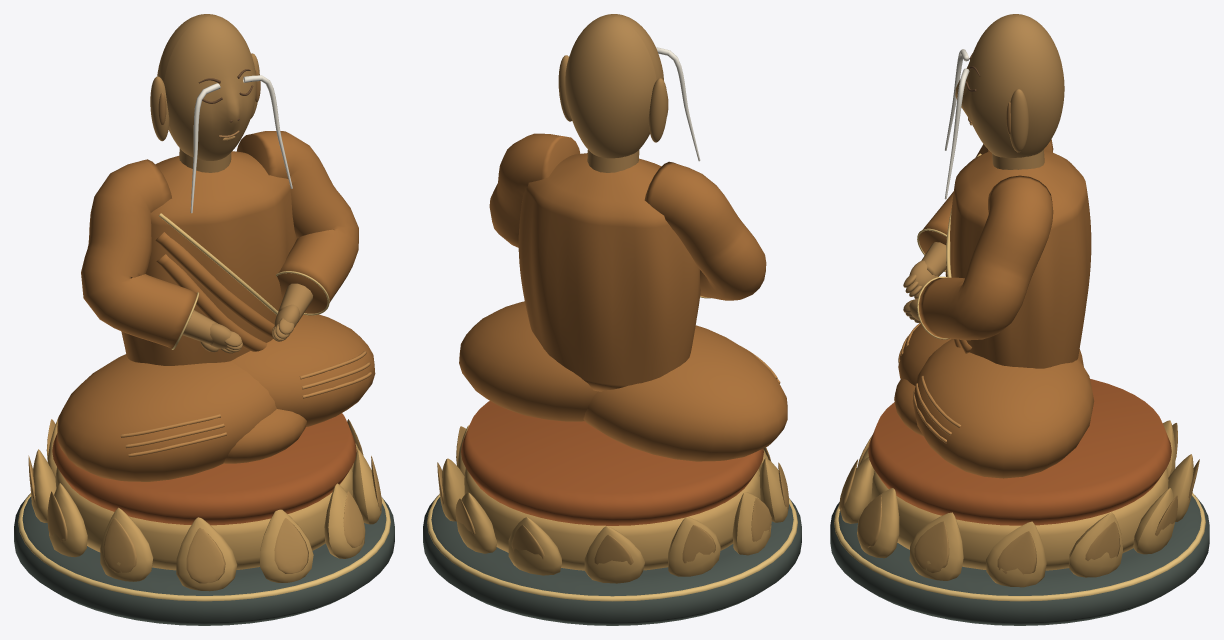
Rendered from arhat_05.glb.
The picture shows the model from 3 angles, left to right: view 1: azimuth 30°, elevation 25°; view 2: azimuth 150°, elevation 25°; view 3: azimuth 270°, elevation 25°; orthographic projection.
Visible parts, largest first — view 1: arhat_05_ArhatDrapery, arhat_05_AntiqueGold, arhat_05_CarvedPlinth, arhat_05_SaffronDrapery, arhat_05_WarmBronze, arhat_05_GoldPetalRelief, arhat_05_RaisedGoldBorders, arhat_05_DraperyFoldHighlights, arhat_05_WarmPorcelain; view 2: arhat_05_ArhatDrapery, arhat_05_SaffronDrapery, arhat_05_CarvedPlinth, arhat_05_AntiqueGold, arhat_05_WarmBronze, arhat_05_GoldPetalRelief, arhat_05_RaisedGoldBorders, arhat_05_WarmPorcelain; view 3: arhat_05_ArhatDrapery, arhat_05_SaffronDrapery, arhat_05_AntiqueGold, arhat_05_CarvedPlinth, arhat_05_WarmBronze, arhat_05_GoldPetalRelief, arhat_05_RaisedGoldBorders, arhat_05_WarmPorcelain, arhat_05_DraperyFoldHighlights.
Boxes of the visible parts, box(x1,y1,x2,y2) form: arhat_05_ArhatDrapery: box(57, 131, 375, 481); arhat_05_AntiqueGold: box(30, 418, 381, 591); arhat_05_CarvedPlinth: box(14, 494, 394, 625); arhat_05_SaffronDrapery: box(52, 413, 356, 525); arhat_05_WarmBronze: box(150, 14, 312, 353); arhat_05_GoldPetalRelief: box(28, 419, 381, 583); arhat_05_RaisedGoldBorders: box(18, 213, 390, 601); arhat_05_DraperyFoldHighlights: box(120, 351, 371, 457); arhat_05_WarmPorcelain: box(190, 75, 292, 213); arhat_05_ArhatDrapery: box(459, 133, 787, 461); arhat_05_SaffronDrapery: box(461, 401, 763, 525); arhat_05_CarvedPlinth: box(423, 496, 801, 625); arhat_05_AntiqueGold: box(439, 425, 788, 583); arhat_05_WarmBronze: box(558, 14, 667, 172); arhat_05_GoldPetalRelief: box(437, 426, 788, 564); arhat_05_RaisedGoldBorders: box(427, 296, 797, 601); arhat_05_WarmPorcelain: box(656, 47, 700, 161); arhat_05_ArhatDrapery: box(894, 139, 1094, 478); arhat_05_SaffronDrapery: box(868, 379, 1171, 525); arhat_05_AntiqueGold: box(840, 420, 1193, 587); arhat_05_CarvedPlinth: box(830, 495, 1209, 625); arhat_05_WarmBronze: box(903, 14, 1064, 323); arhat_05_GoldPetalRelief: box(839, 423, 1199, 574); arhat_05_RaisedGoldBorders: box(834, 153, 1205, 601); arhat_05_WarmPorcelain: box(944, 49, 969, 199); arhat_05_DraperyFoldHighlights: box(898, 323, 960, 443).
Size of the model in its own units: 0.92 by 1.43 by 0.92.
